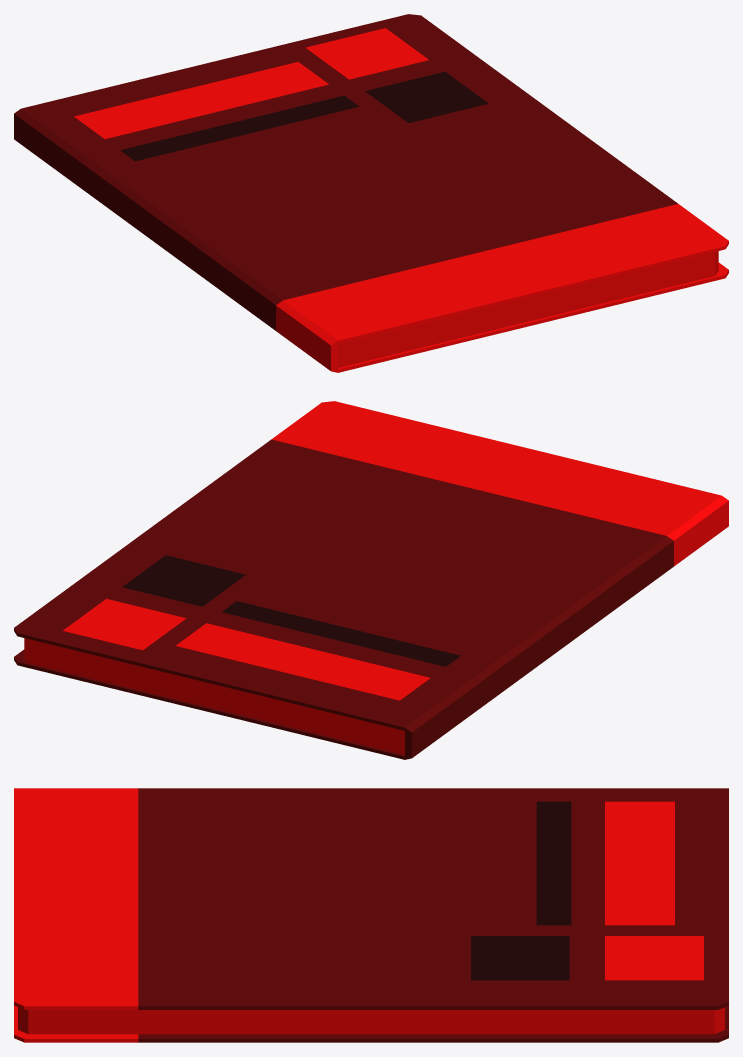
The model's file is SchoolBook.002.glb.
3 views of the same model, one above another, from view 1: azimuth 30°, elevation 25°; view 2: azimuth 150°, elevation 25°; view 3: azimuth 270°, elevation 25° (orthographic). The views are drawn at different scales.
Visible parts, largest first — view 1: SchoolBook.002; view 2: SchoolBook.002; view 3: SchoolBook.002.
Boxes of the visible parts, x1,y1,x2,y2 form: SchoolBook.002: (14, 14, 728, 372); SchoolBook.002: (14, 401, 728, 759); SchoolBook.002: (14, 788, 728, 1042).
Bounding box in the file's own units: 1.78 × 0.1467 × 2.43.
